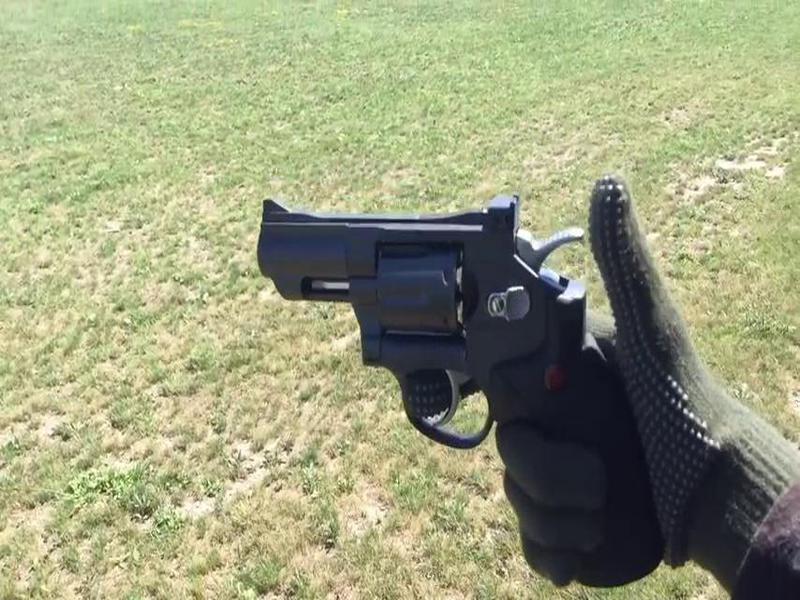Revolver: (237, 162, 654, 550)
